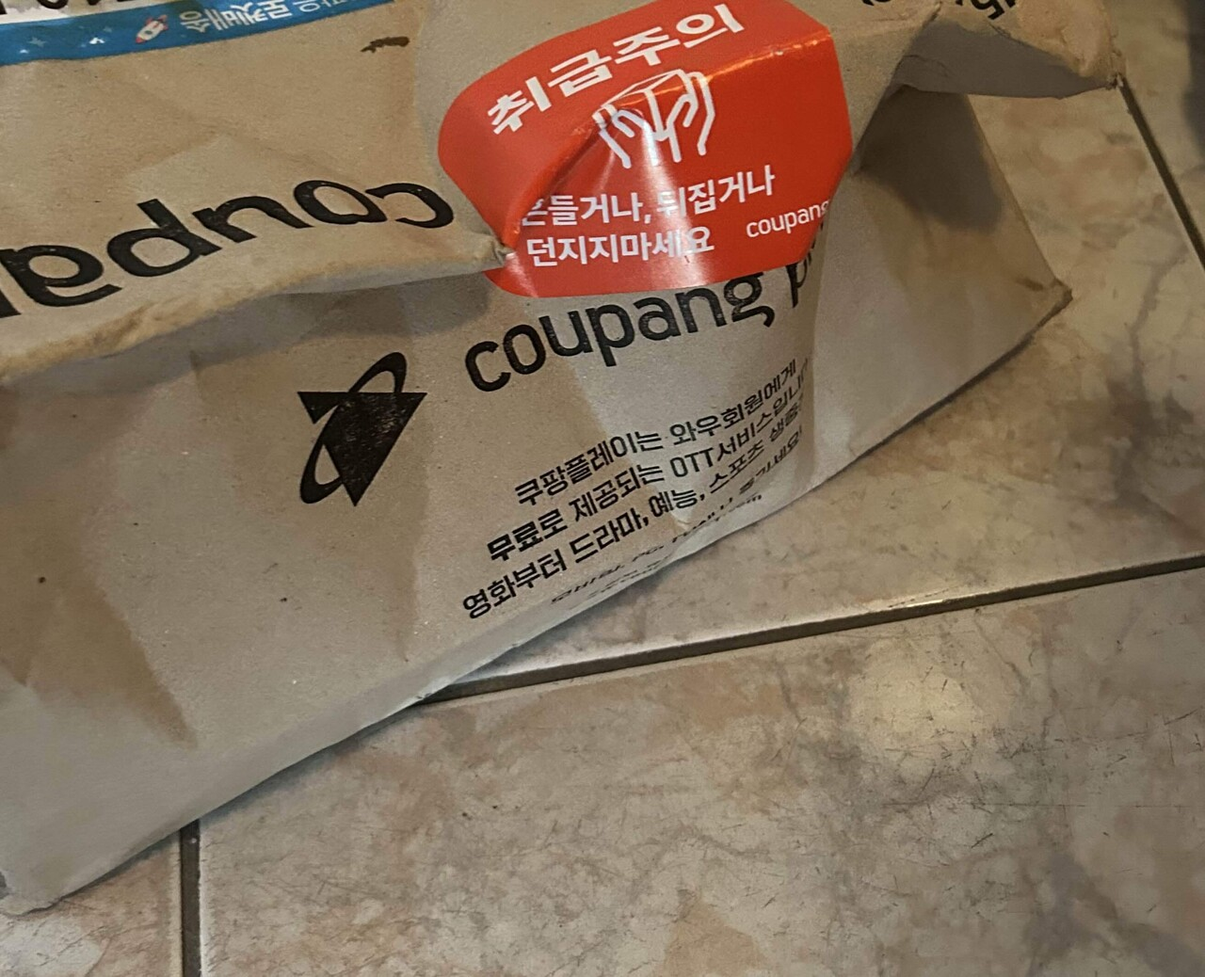damaged package: (0, 10, 1092, 909)
